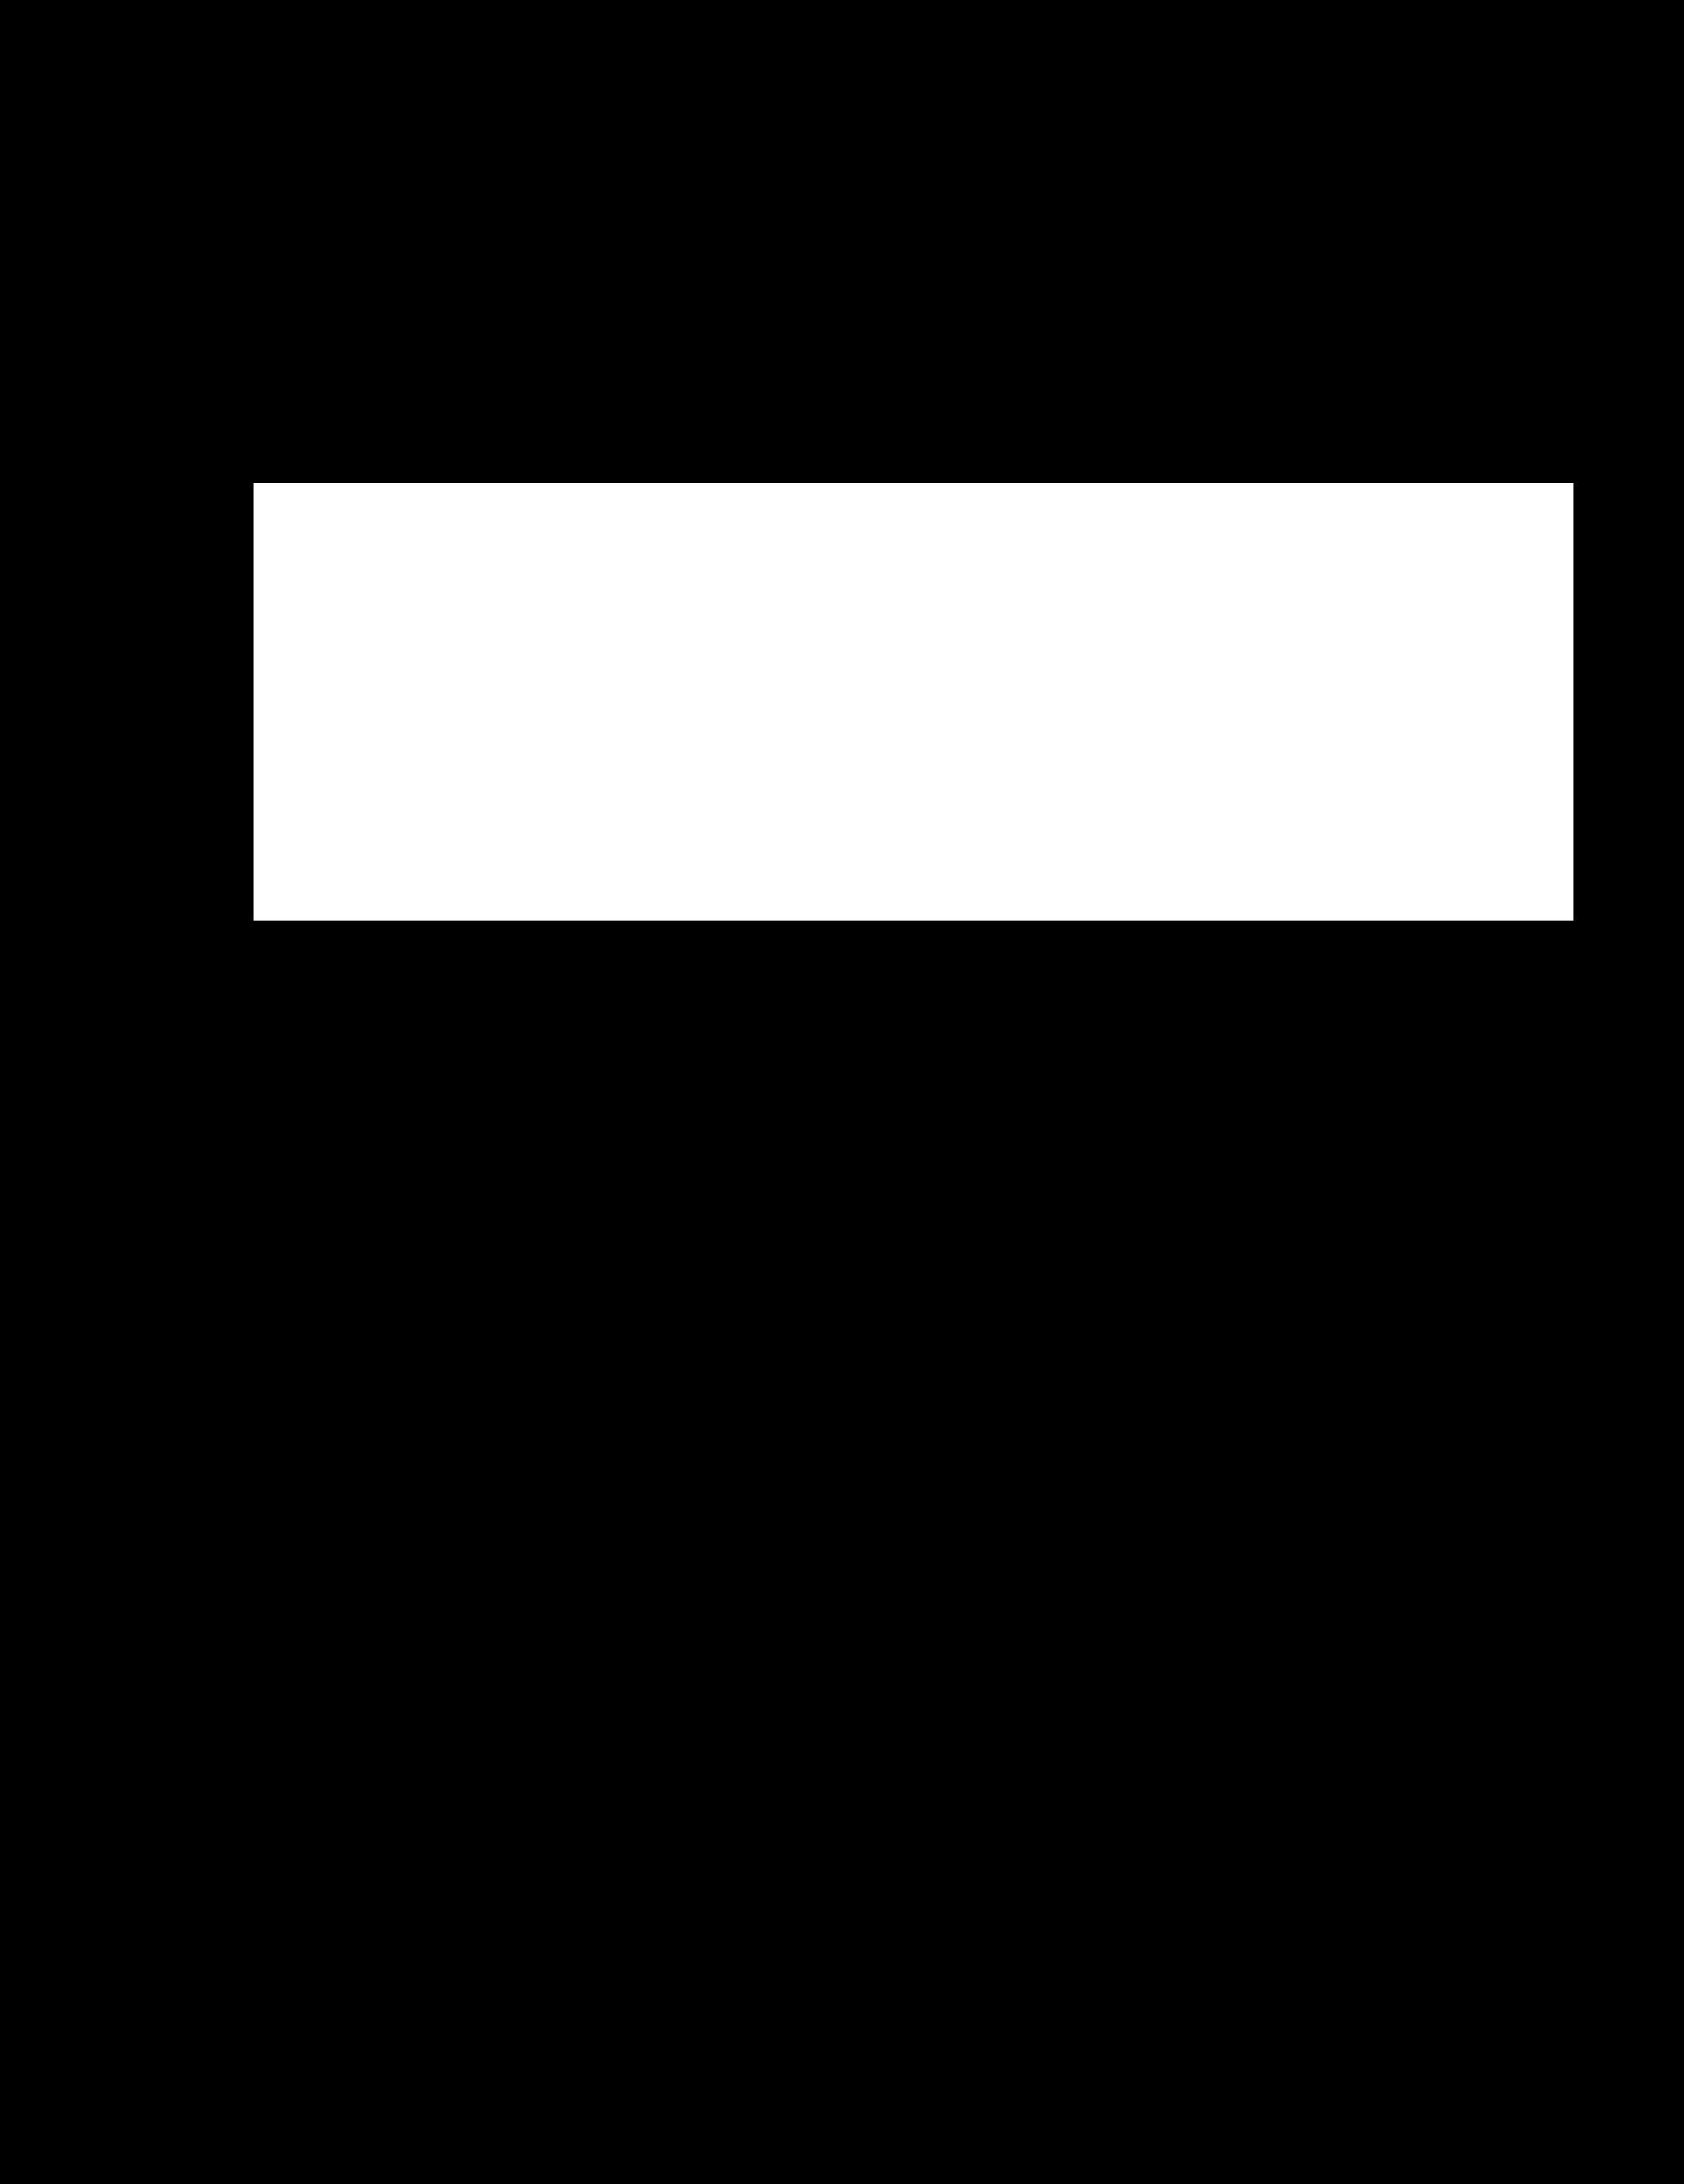table: (253, 483, 1573, 920)
